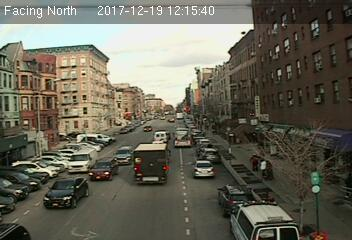car: (44, 174, 91, 210), (219, 182, 254, 214), (89, 157, 119, 181), (191, 159, 214, 178), (112, 147, 133, 163), (200, 148, 221, 164)
police: (231, 199, 294, 240)
truck: (67, 148, 99, 172), (174, 128, 192, 146), (153, 130, 168, 142)
ups: (133, 142, 170, 186)
